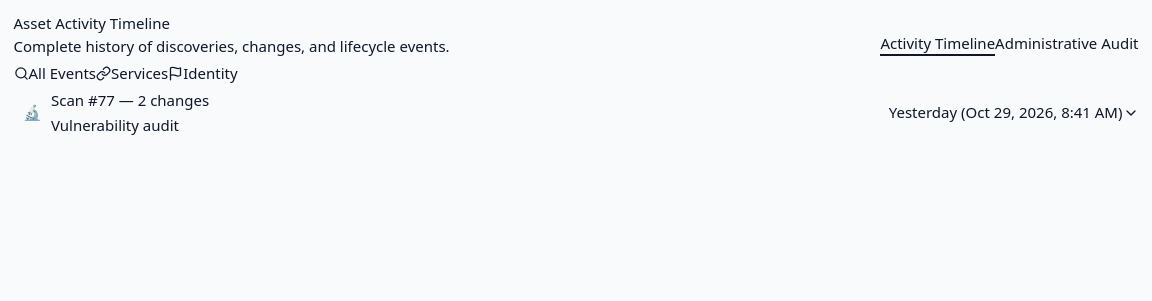
Test: AuditTimeline — activity view › filters events by category and clears back to all
The image size is (1152, 301).
Step 1. Click the button "Scan #77" → (130, 100), box [14,89,1138,136]
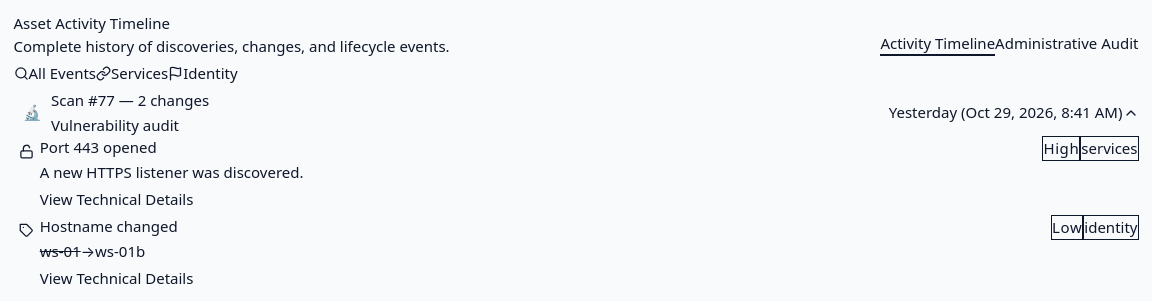
Step 2. Click the button "Identity" → (203, 73), box [168,57,238,89]
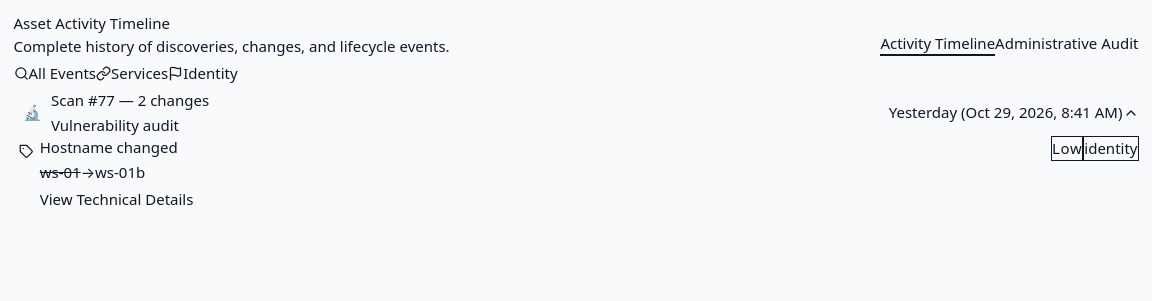
expect the button "Scan #77" is expanded: met, box [14,89,1138,136]
expect the text "Hostname changed" is shown: met, box [40,136,178,158]
expect the text "Port 443 opened" is gone: met
